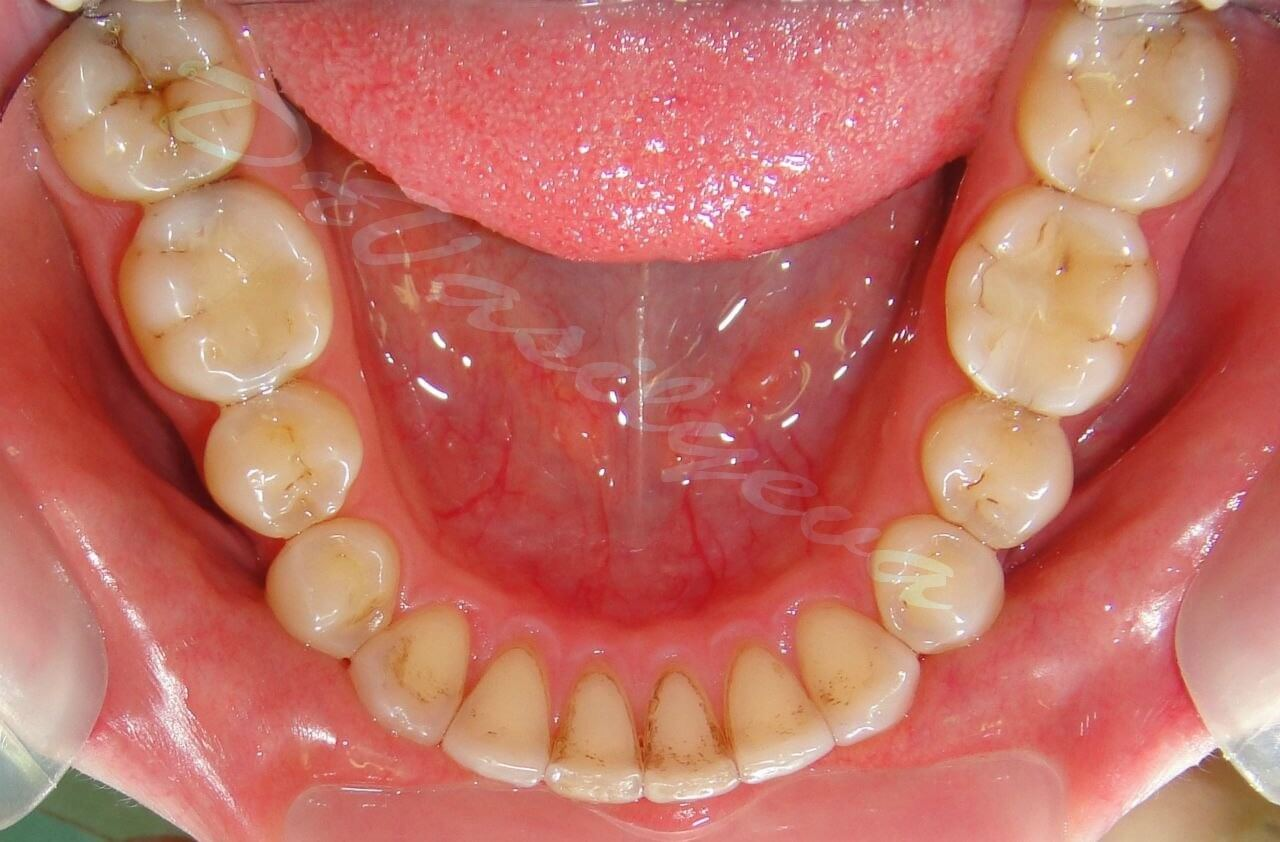LL1BC_healthy: (866, 502, 1009, 664)
LL1M_decay: (935, 172, 1165, 415)
LL2BC_decay: (914, 387, 1079, 545)
LL2M_decay: (1012, 5, 1256, 215)
LLCI_decay: (637, 652, 735, 815)
LLC_decay: (781, 586, 915, 744)
LLLI_decay: (725, 652, 833, 789)
LR1BC_decay: (260, 504, 415, 666)
LR1M_decay: (113, 188, 339, 397)
LR2BC_decay: (199, 369, 387, 556)
LR2M_decay: (36, 2, 251, 197)
LRCI_decay: (546, 664, 647, 806)
LRC_decay: (342, 606, 491, 743)
LRLI_healthy: (438, 646, 558, 797)
